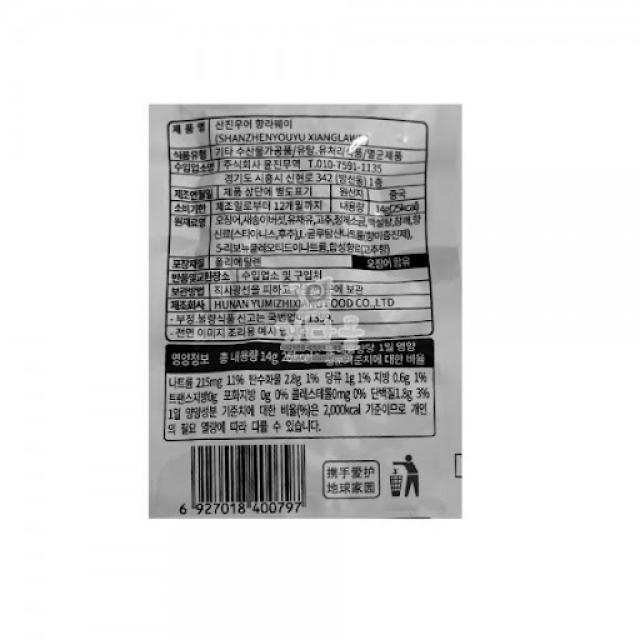Nutrition Label: (158, 342, 446, 445)
